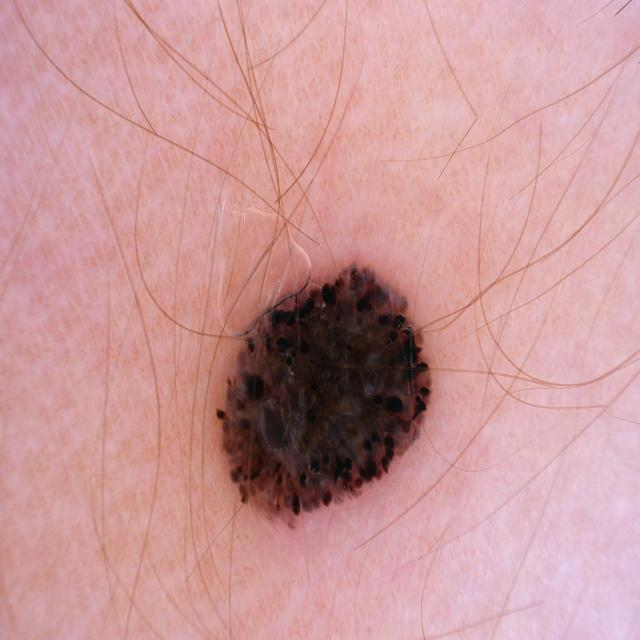Skin-Cancer Nevus: (98, 126, 518, 590)
